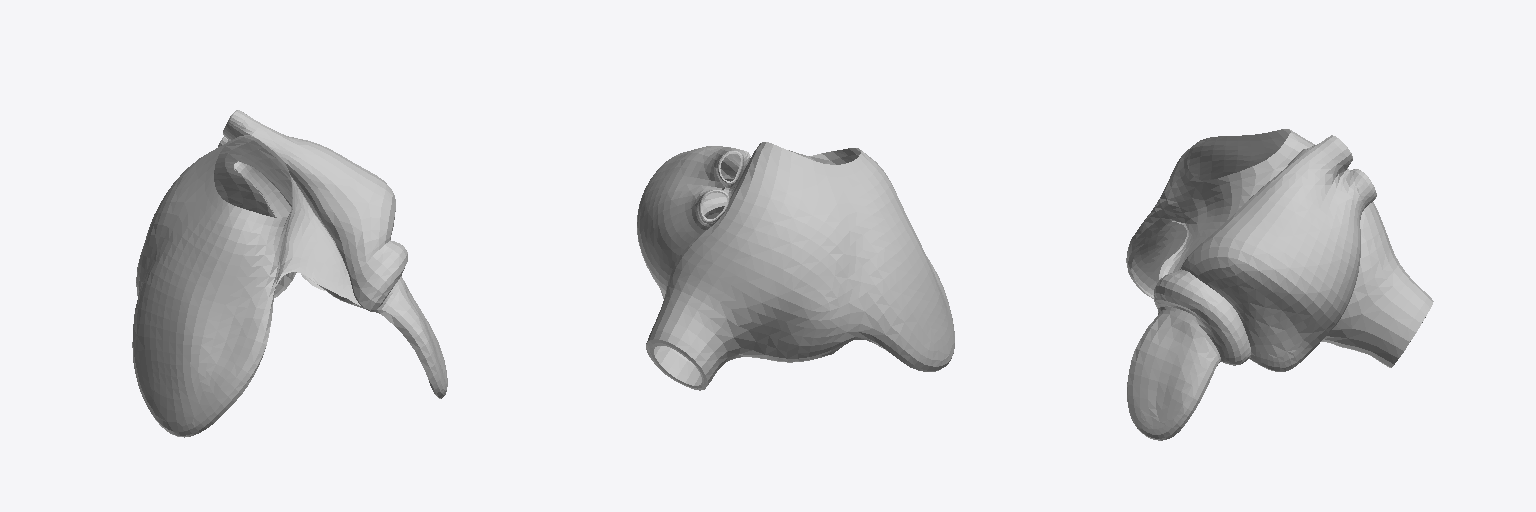
File: rosado.obj
3 views of the same model, side by side, from view 1: azimuth 30°, elevation 25°; view 2: azimuth 150°, elevation 25°; view 3: azimuth 270°, elevation 25° (orthographic).
Visible parts, largest first — view 1: rosa.008, rosa.1; view 2: rosa.008, rosa.1; view 3: rosa.1, rosa.008.
Boxes of the visible parts, x1=… form: rosa.008: x1=132, y1=136, x2=365, y2=437; rosa.1: x1=218, y1=110, x2=447, y2=398; rosa.008: x1=646, y1=142, x2=954, y2=390; rosa.1: x1=637, y1=146, x2=750, y2=298; rosa.1: x1=1127, y1=135, x2=1376, y2=440; rosa.008: x1=1126, y1=129, x2=1433, y2=367.
Bounding box in the file's own units: 0.1247 × 0.1071 × 0.1211.